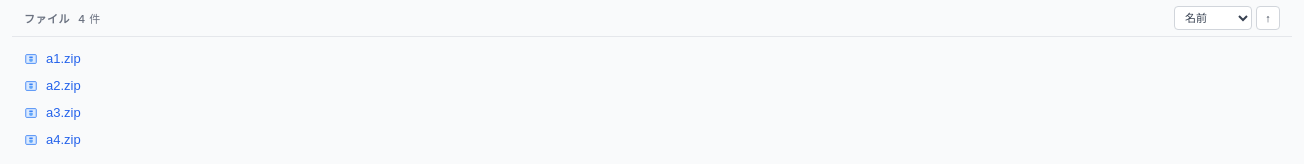
moving files to the trash › leaves out a selected file that disappeared from the list
Later steps or results of the test are not shown.
Click the option "a1.zip" at (63, 58), box x1=12 y1=45 x2=1292 y2=72
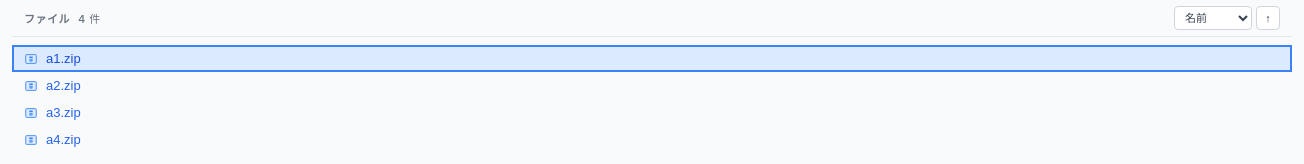
Type keys "{Meta>}"
Click the option "a2.zip" at (63, 86), box x1=12 y1=72 x2=1292 y2=99
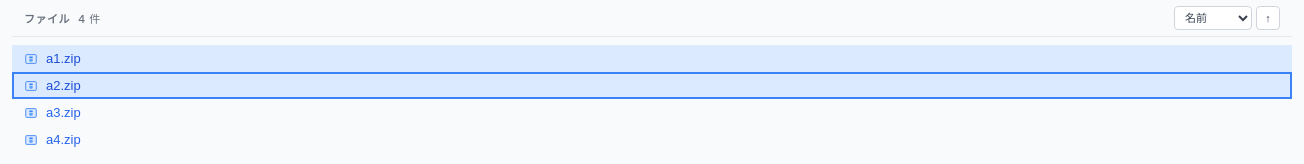
Type keys "{/Meta}"
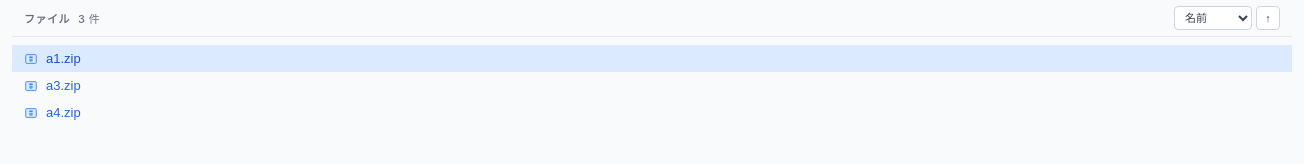
Result: the option "a2.zip" is gone
